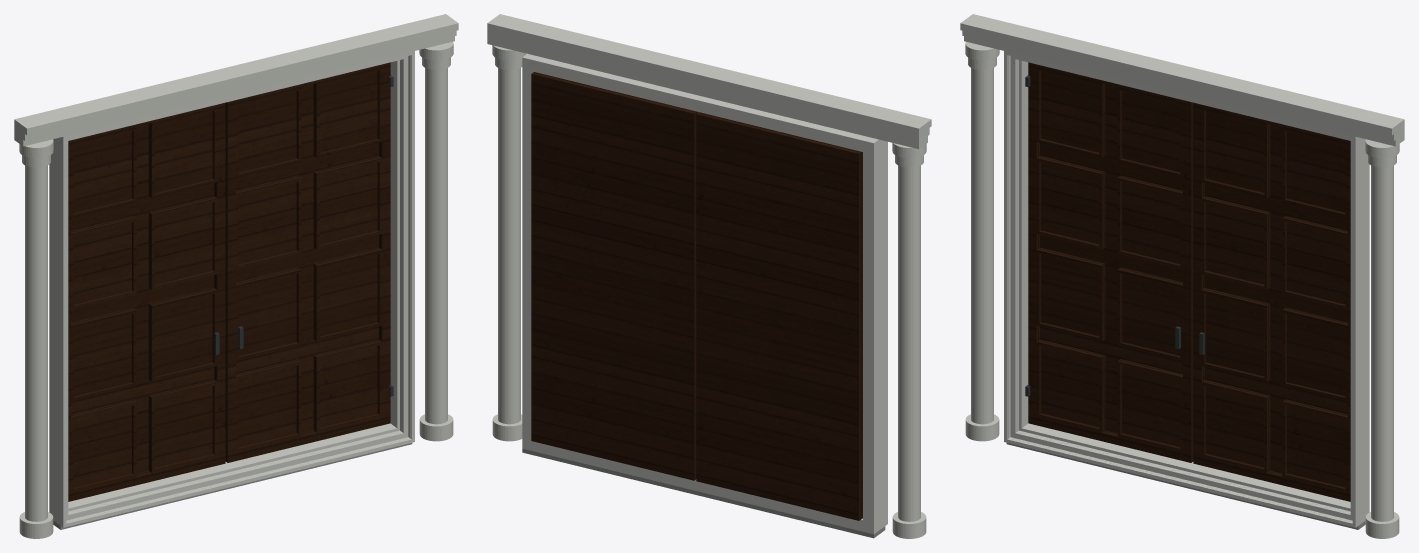
Rendered from clasico_rectangle_porton.glb.
3 renders of one model, left to right at view 1: azimuth 30°, elevation 25°; view 2: azimuth 150°, elevation 25°; view 3: azimuth 330°, elevation 25°, orthographic.
Parts seen in each view (by area): view 1: door_panel_back#0001, door_panel_back#0002, door_leaf_frame#0002, door_portal_cornice#0003, door_column#0002, door_column#0006, door_reveal#0001, door_leaf_frame#0001, door_moulding#0020, door_coffer#0006, door_coffer#0007, door_coffer#0014 (+53 smaller); view 2: door_panel_back#0001, door_panel_back#0002, door_reveal#0001, door_leaf_frame#0001, door_leaf_frame#0002, door_portal_cornice#0003, door_column#0002, door_column#0006, door_moulding#0020, door_portal_cornice#0002, door_portal_cornice#0001, door_threshold#0001 (+2 smaller); view 3: door_panel_back#0002, door_panel_back#0001, door_leaf_frame#0001, door_portal_cornice#0003, door_column#0006, door_column#0002, door_leaf_frame#0002, door_reveal#0001, door_moulding#0020, door_coffer#0010, door_coffer#0011, door_coffer#0002 (+53 smaller).
Boxes of the visible parts, x1,y1,x2,y2 form: door_panel_back#0001: (71, 124, 214, 473); door_panel_back#0002: (236, 84, 378, 433); door_leaf_frame#0002: (225, 62, 390, 462); door_portal_cornice#0003: (14, 14, 458, 135); door_column#0002: (25, 165, 47, 521); door_column#0006: (425, 68, 447, 424); door_reveal#0001: (49, 61, 395, 521); door_leaf_frame#0001: (68, 102, 225, 501); door_moulding#0020: (54, 51, 414, 527); door_coffer#0006: (148, 288, 215, 379); door_coffer#0007: (148, 196, 214, 288); door_coffer#0014: (313, 247, 379, 339); door_panel_back#0001: (704, 125, 850, 510); door_panel_back#0002: (539, 85, 685, 469); door_reveal#0001: (522, 54, 879, 534); door_leaf_frame#0001: (696, 112, 862, 520); door_leaf_frame#0002: (531, 72, 698, 480); door_portal_cornice#0003: (487, 14, 931, 135); door_column#0002: (898, 165, 920, 521); door_column#0006: (498, 68, 520, 424); door_moulding#0020: (879, 140, 887, 530); door_portal_cornice#0002: (487, 30, 929, 142); door_portal_cornice#0001: (487, 37, 927, 149); door_threshold#0001: (522, 448, 885, 538); door_panel_back#0002: (1204, 124, 1347, 473); door_panel_back#0001: (1040, 84, 1182, 433); door_leaf_frame#0001: (1028, 62, 1193, 462); door_portal_cornice#0003: (960, 14, 1404, 135); door_column#0006: (1371, 165, 1393, 521); door_column#0002: (971, 68, 993, 424); door_leaf_frame#0002: (1193, 102, 1350, 501); door_reveal#0001: (1023, 61, 1369, 520); door_moulding#0020: (1004, 51, 1364, 527); door_coffer#0010: (1203, 288, 1270, 379); door_coffer#0011: (1204, 196, 1270, 288); door_coffer#0002: (1039, 247, 1105, 339).
Size of the model in its own units: 3.93 by 3.62 by 0.3594.
Materials: 5 (1 with a texture image).
